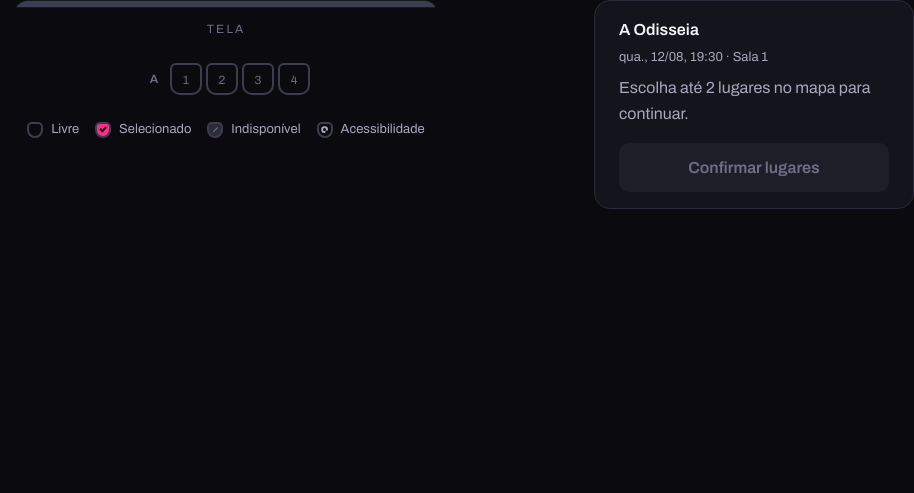
Test: seleção › informa o limite ao ser atingido, e não adiciona
Click the button named "Fileira" at (186, 79), box x1=170 y1=63 x2=202 y2=95
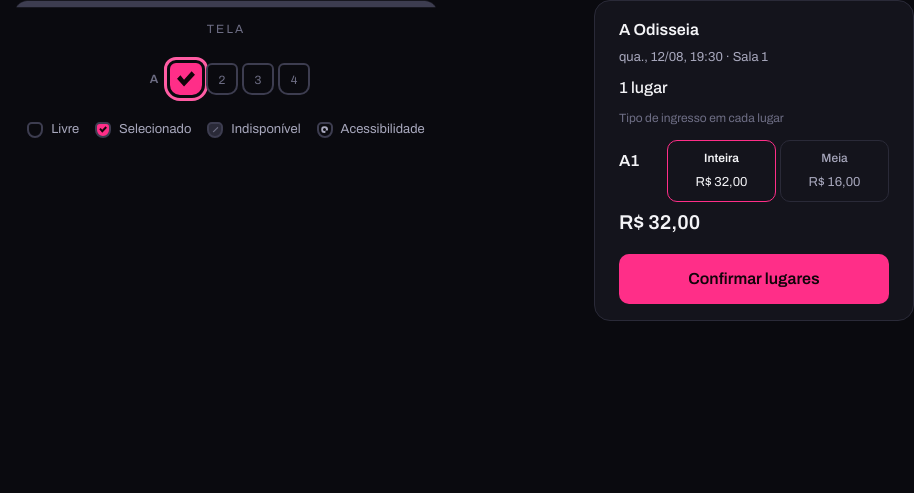
Click the button named "Fileira" at (222, 79), box x1=206 y1=63 x2=238 y2=95
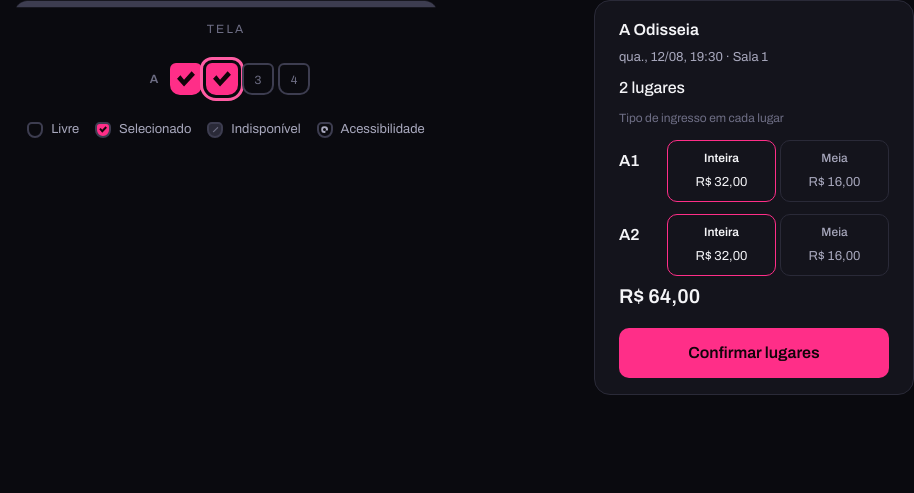
Click the button named "Fileira" at (258, 79), box x1=242 y1=63 x2=274 y2=95
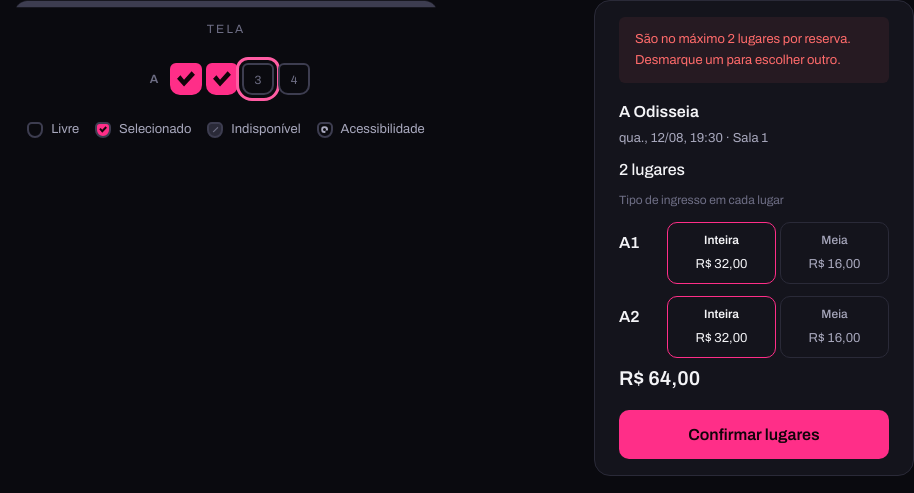
Now the text "2 lugares" is shown, box x1=619 y1=161 x2=685 y2=178
Now the message shows "máximo 2 lugares", box x1=635 y1=32 x2=851 y2=67
